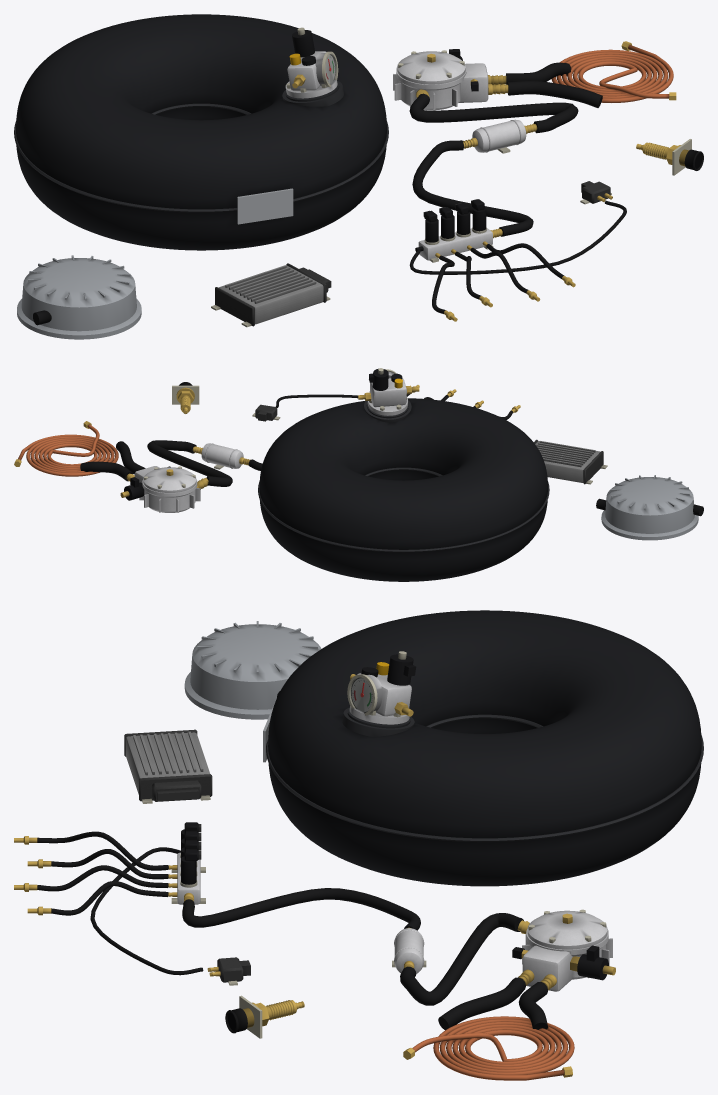
The model's file is lpg_kit-hi-v1.glb.
3 views of the same model, one above another, from view 1: azimuth 30°, elevation 25°; view 2: azimuth 150°, elevation 25°; view 3: azimuth 270°, elevation 25° (orthographic). The views are drawn at different scales.
Parts seen in each view (by area): view 1: tank_geo, valve_housing_geo, hoses_geo, reducer_geo, ecu_geo, gas_line_geo, multivalve, nozzle_hoses_geo, filter_geo, injector_rail, fill_valve_geo, map_sensor_geo; view 2: tank_geo, valve_housing_geo, reducer_geo, hoses_geo, gas_line_geo, ecu_geo, multivalve, filter_geo, fill_valve_geo, map_sensor_geo; view 3: tank_geo, hoses_geo, valve_housing_geo, gas_line_geo, reducer_geo, ecu_geo, multivalve, nozzle_hoses_geo, fill_valve_geo, filter_geo, injector_rail, map_sensor_geo.
Boxes of the visible parts, x1=… form: tank_geo: x1=14, y1=14, x2=388, y2=250; valve_housing_geo: x1=17, y1=255, x2=141, y2=339; hoses_geo: x1=409, y1=62, x2=626, y2=274; reducer_geo: x1=393, y1=49, x2=508, y2=110; ecu_geo: x1=211, y1=263, x2=331, y2=327; gas_line_geo: x1=551, y1=41, x2=676, y2=102; multivalve: x1=285, y1=27, x2=338, y2=98; nozzle_hoses_geo: x1=432, y1=243, x2=575, y2=321; filter_geo: x1=463, y1=119, x2=537, y2=153; injector_rail: x1=415, y1=228, x2=502, y2=262; fill_valve_geo: x1=636, y1=139, x2=703, y2=175; map_sensor_geo: x1=580, y1=181, x2=612, y2=204; tank_geo: x1=258, y1=398, x2=549, y2=581; valve_housing_geo: x1=596, y1=475, x2=703, y2=540; reducer_geo: x1=120, y1=466, x2=208, y2=512; hoses_geo: x1=80, y1=394, x2=357, y2=486; gas_line_geo: x1=14, y1=421, x2=118, y2=476; ecu_geo: x1=534, y1=439, x2=607, y2=484; multivalve: x1=358, y1=368, x2=419, y2=415; filter_geo: x1=192, y1=443, x2=250, y2=469; fill_valve_geo: x1=172, y1=382, x2=199, y2=413; map_sensor_geo: x1=252, y1=404, x2=280, y2=421; tank_geo: x1=263, y1=610, x2=703, y2=886; hoses_geo: x1=90, y1=847, x2=548, y2=1030; valve_housing_geo: x1=184, y1=621, x2=321, y2=719; gas_line_geo: x1=403, y1=1016, x2=574, y2=1080; reducer_geo: x1=512, y1=909, x2=615, y2=991; ecu_geo: x1=124, y1=729, x2=212, y2=803; multivalve: x1=347, y1=651, x2=416, y2=724; nozzle_hoses_geo: x1=14, y1=831, x2=168, y2=915; fill_valve_geo: x1=225, y1=995, x2=304, y2=1038; filter_geo: x1=392, y1=927, x2=426, y2=974; injector_rail: x1=168, y1=852, x2=205, y2=904; map_sensor_geo: x1=207, y1=957, x2=250, y2=985.
Size of the model in its own units: 1.46 by 0.3194 by 1.
Materials: 16 (4 with a texture image).
